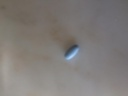Apranax: (63, 44, 81, 61)
